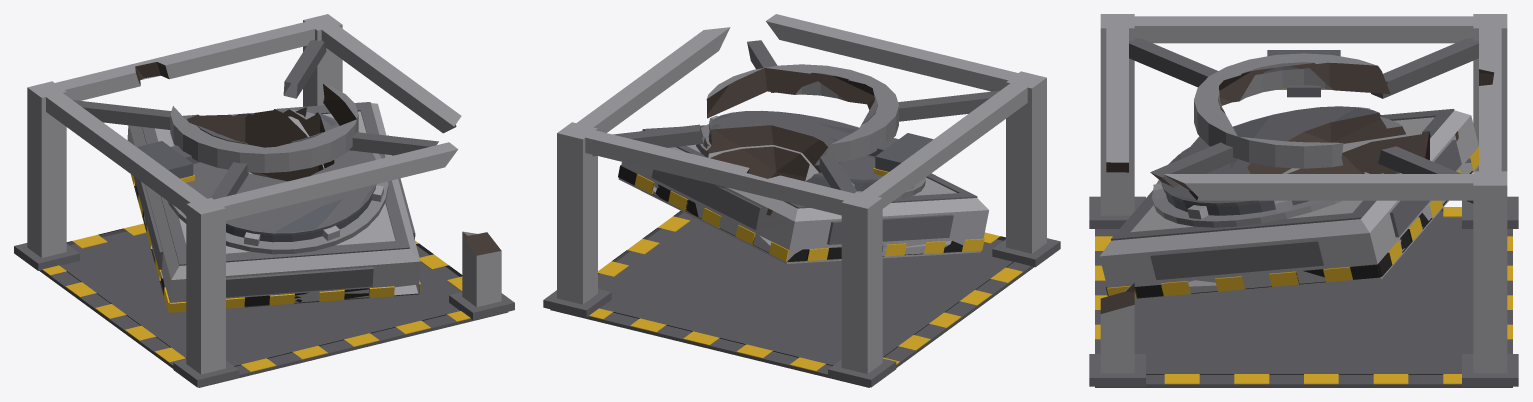
Rendered from vge_d_smallweaponplatform.obj.
3 renders of one model, left to right at view 1: azimuth 30°, elevation 25°; view 2: azimuth 150°, elevation 25°; view 3: azimuth 270°, elevation 25°, orthographic. The views are drawn at different scales.
Parts seen in each view (by area): view 1: vge_d_smallweaponplatform; view 2: vge_d_smallweaponplatform; view 3: vge_d_smallweaponplatform.
Boxes of the visible parts, <box> form: vge_d_smallweaponplatform: <box>14,14,514,387</box>; vge_d_smallweaponplatform: <box>543,14,1060,387</box>; vge_d_smallweaponplatform: <box>1089,14,1518,387</box>.
Size of the model in its own units: 3.04 by 1.57 by 3.04.
